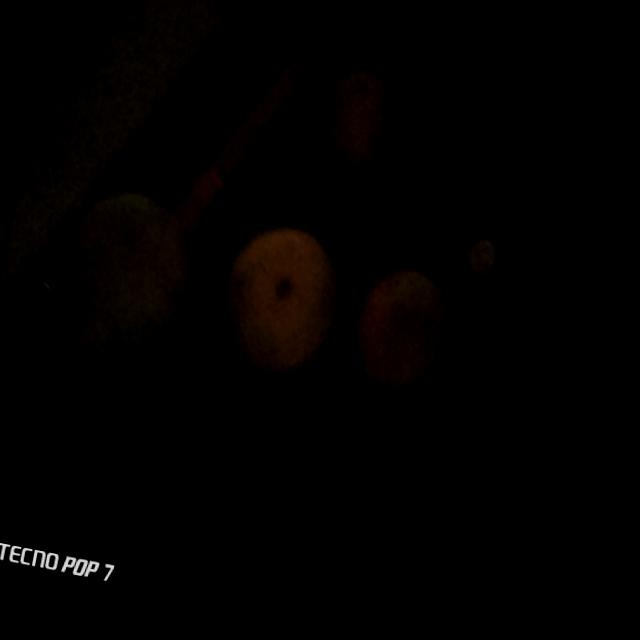agrume: (36, 183, 200, 364), (207, 209, 356, 395), (346, 252, 466, 407), (301, 53, 405, 174)
